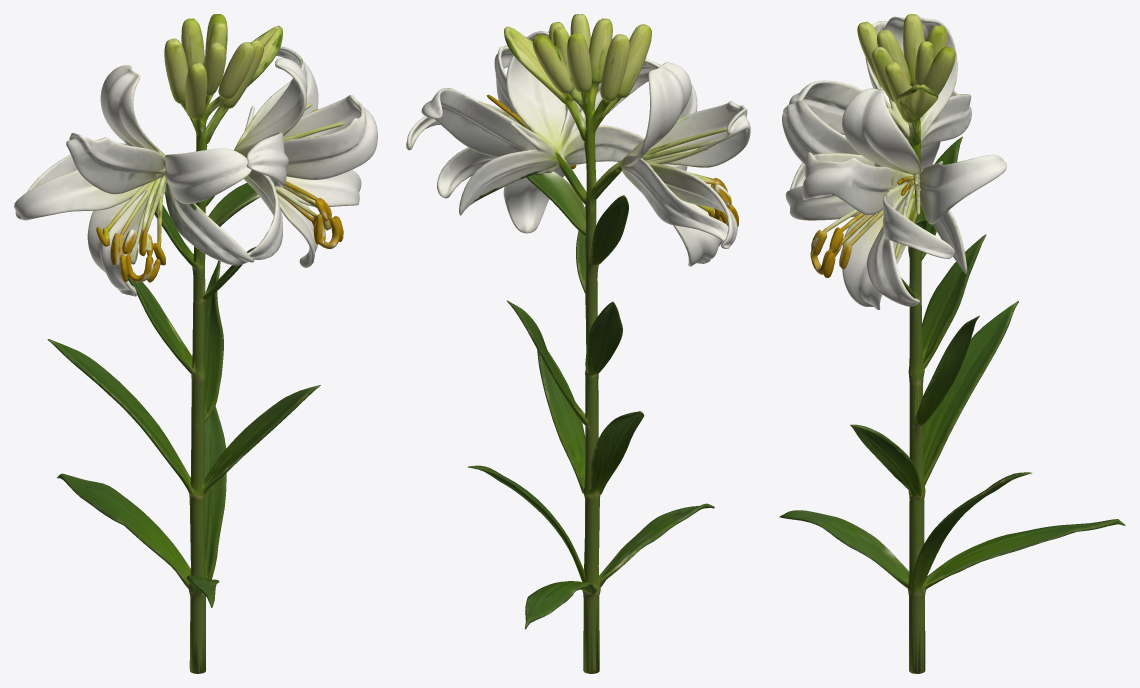
Rendered from baihe.glb.
3 views of the same model, side by side, from view 1: azimuth 30°, elevation 25°; view 2: azimuth 150°, elevation 25°; view 3: azimuth 270°, elevation 25° (orthographic).
Visible parts, largest first — view 1: node_0; view 2: node_0; view 3: node_0.
Boxes of the visible parts, x1,y1,x2,y2 form: node_0: (14, 14, 377, 673); node_0: (406, 14, 750, 673); node_0: (779, 14, 1125, 673).
Bounding box in the file's own units: 0.6449 × 1.19 × 0.5769.
Materials: 1 (1 with a texture image).
